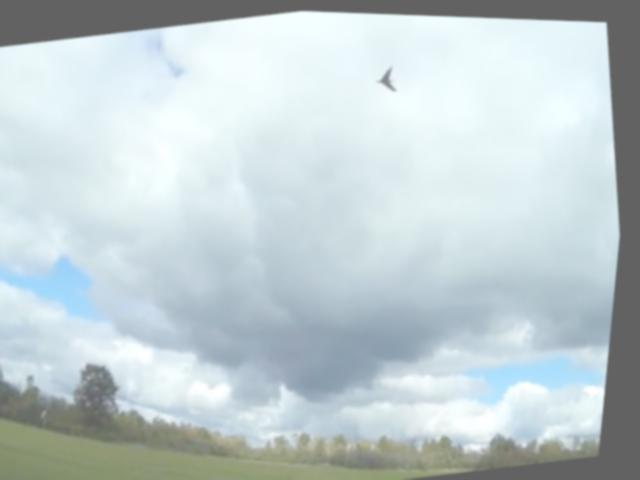flying wing: (371, 53, 407, 96)
